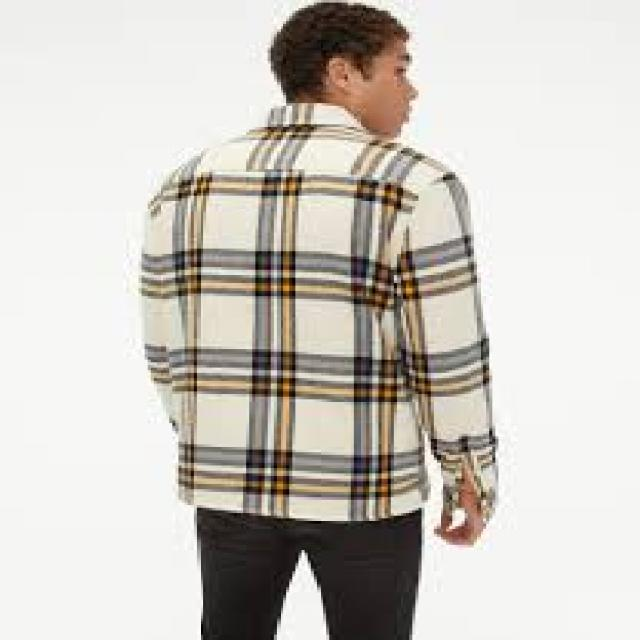plaid: (126, 97, 510, 520)
